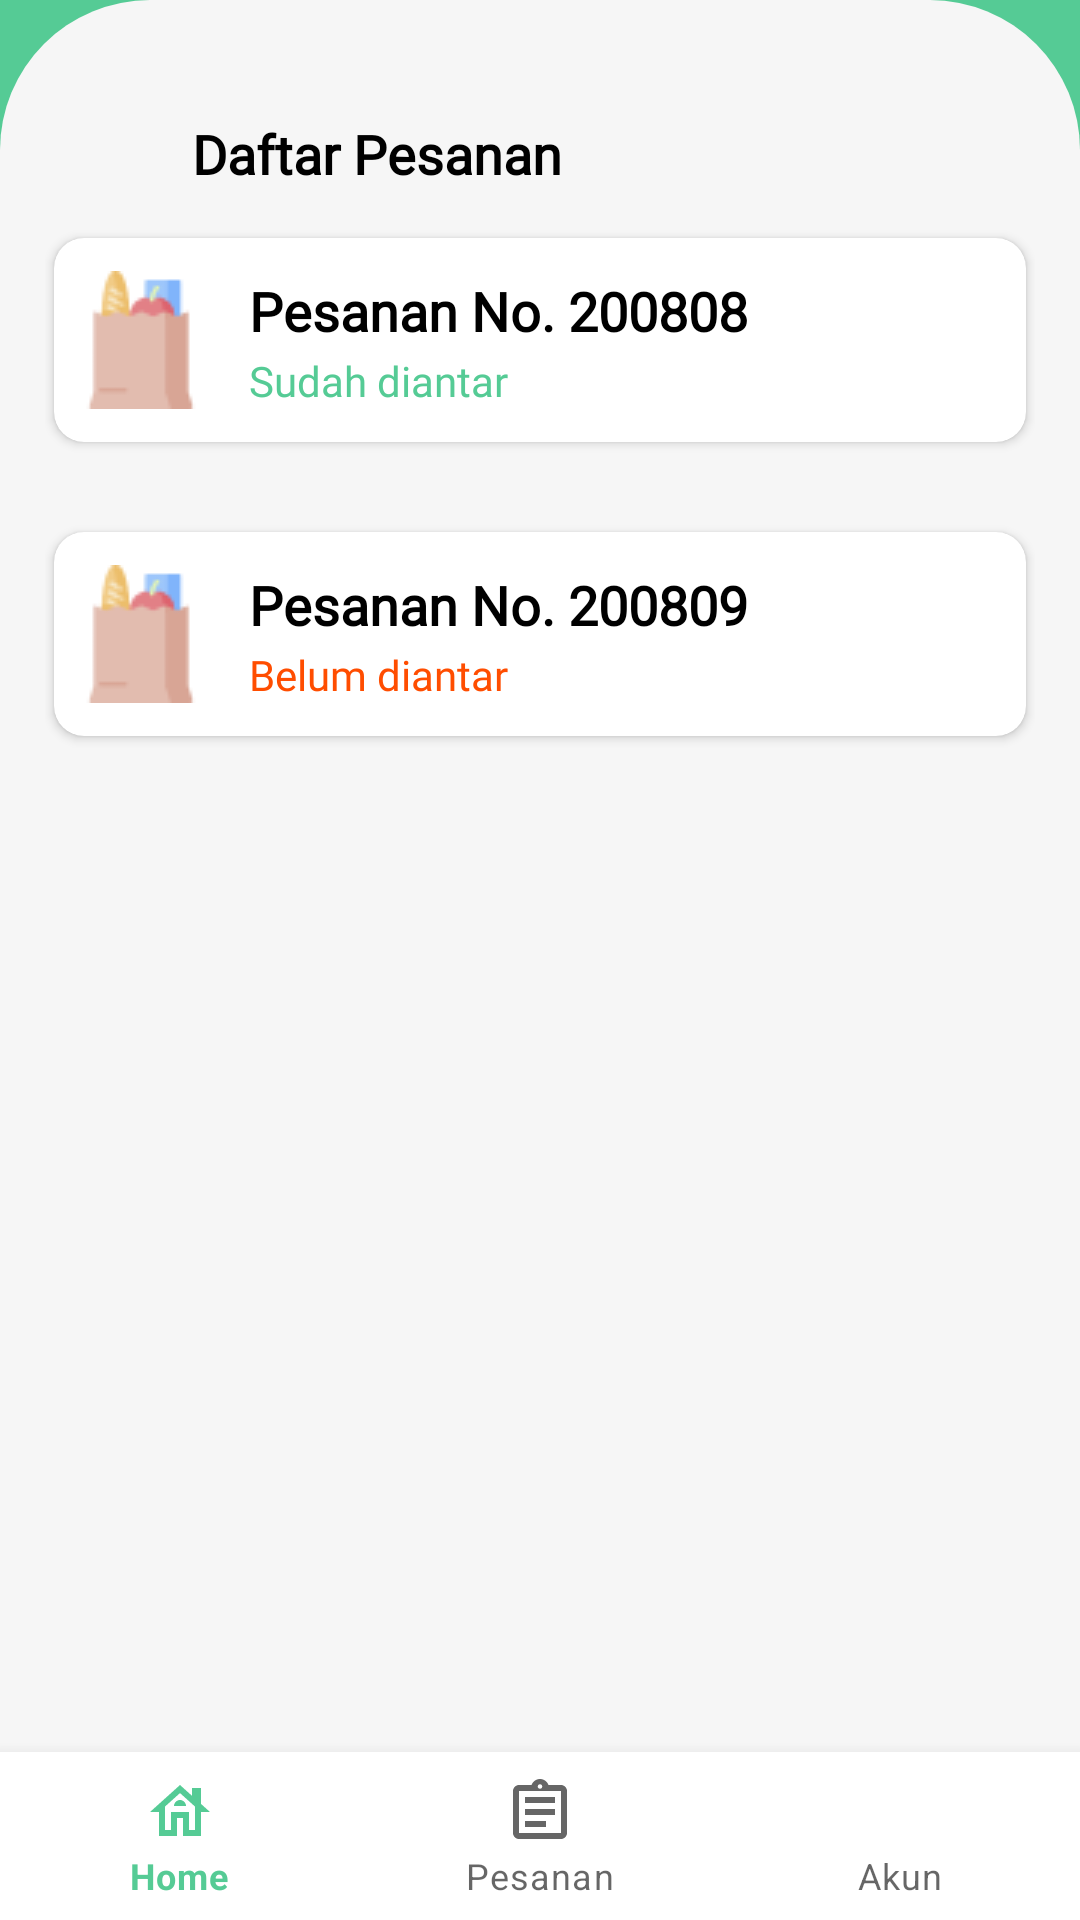

Where to tap for icons on this 1080*1920 app screen, as [x,y]:
blanja: [141,340], [141,634]
